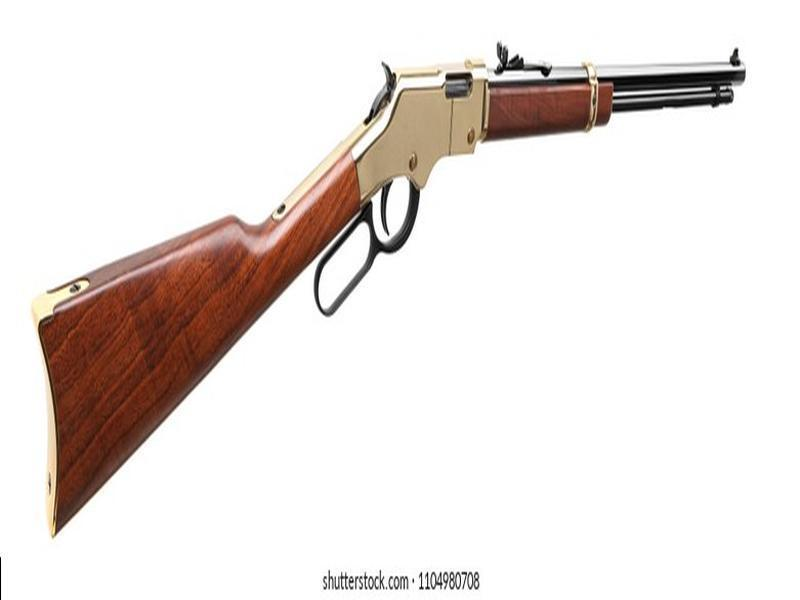GUN: (29, 44, 756, 543)
